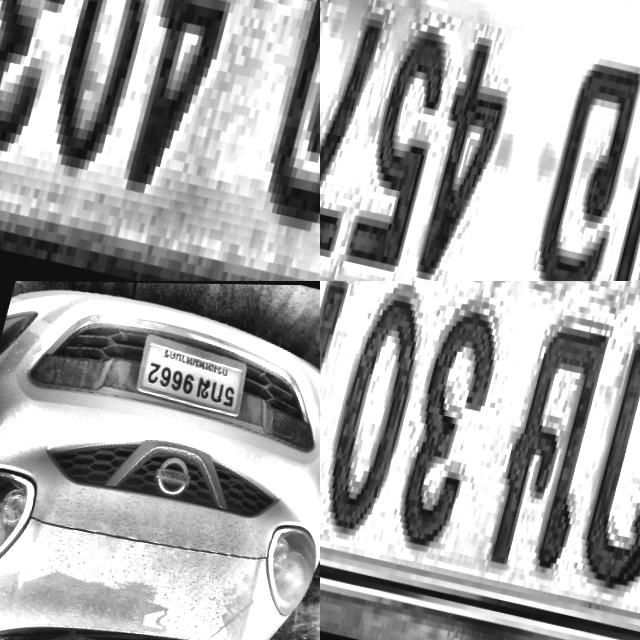license-plate: (320, 281, 640, 640), (0, 0, 320, 281), (320, 0, 640, 281), (130, 332, 255, 415)
